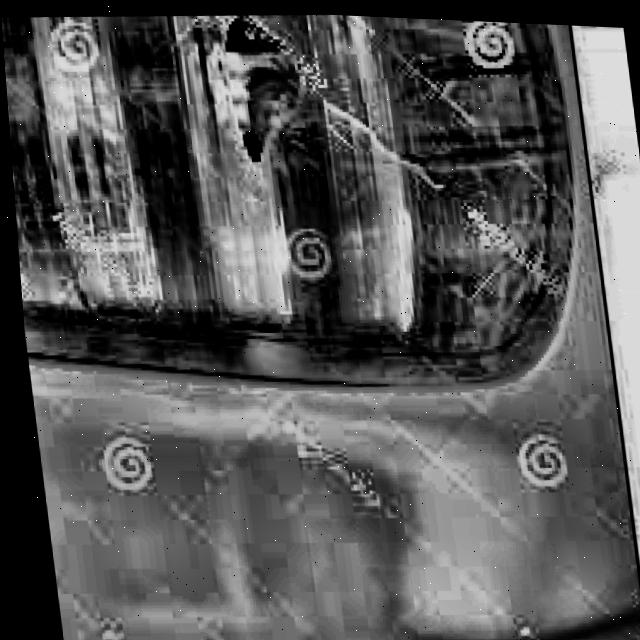tail_lamp: (194, 9, 326, 176)
